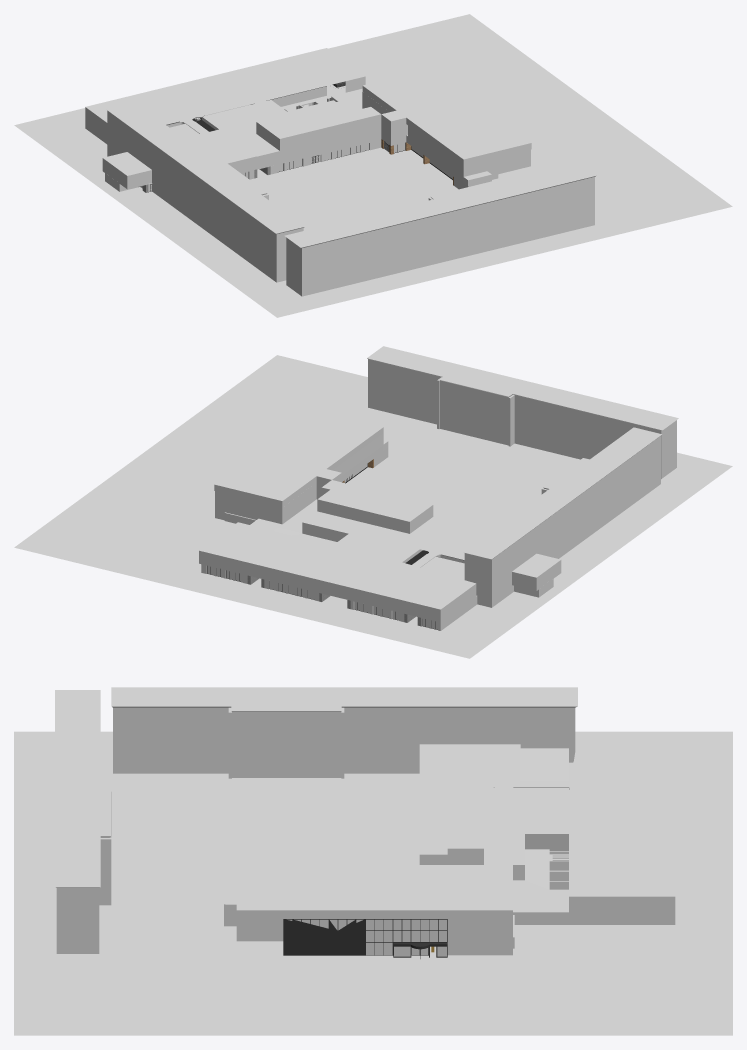
File: siba2_2.fbx
3 renders of one model, top to bottom at view 1: azimuth 30°, elevation 25°; view 2: azimuth 150°, elevation 25°; view 3: azimuth 270°, elevation 25°, orthographic. The views are drawn at different scales.
Visible parts, largest first — view 1: Plane, Cube.146, Cube.145, Cube.026, Cube.066, Cube.154, Cube.221, Cube.197, Cube.033, Cube.005, Cube.007; view 2: Plane, Cube.146, Cube.145, Cube.026, Cube.154, Cube.066, Cube.197, Cube.221, Cube.007, Cube.033, Cube.222, Cube.261 (+1 smaller); view 3: Plane, Cube.145, Cube.026, Cube.146, Cube.154, Cube.066, Cube.197, Cube.221, Cube.007, Cube.116, Cube.222, Cube.059 (+7 smaller).
Part boxes in pixels (<box>): Plane: <box>14,14,732,317</box>; Cube.146: <box>284,163,596,296</box>; Cube.145: <box>106,102,304,282</box>; Cube.026: <box>362,69,531,165</box>; Cube.066: <box>202,99,372,169</box>; Cube.154: <box>177,48,365,116</box>; Cube.221: <box>102,129,256,189</box>; Cube.197: <box>85,84,215,135</box>; Cube.033: <box>407,125,530,185</box>; Cube.005: <box>362,107,406,145</box>; Cube.007: <box>331,88,407,140</box>; Plane: <box>14,355,732,658</box>; Cube.146: <box>367,346,678,478</box>; Cube.145: <box>463,427,661,607</box>; Cube.026: <box>214,410,383,507</box>; Cube.154: <box>199,522,387,599</box>; Cube.066: <box>302,482,455,562</box>; Cube.197: <box>348,559,476,622</box>; Cube.221: <box>420,522,561,590</box>; Cube.007: <box>215,483,336,545</box>; Cube.033: <box>333,434,388,480</box>; Cube.222: <box>412,554,464,579</box>; Cube.261: <box>439,578,553,630</box>; Plane: <box>14,731,732,1035</box>; Cube.145: <box>111,687,577,778</box>; Cube.026: <box>236,865,512,918</box>; Cube.146: <box>55,690,111,953</box>; Cube.154: <box>569,797,675,914</box>; Cube.066: <box>419,787,568,880</box>; Cube.197: <box>569,735,675,796</box>; Cube.221: <box>419,744,520,787</box>; Cube.007: <box>447,849,568,943</box>; Cube.116: <box>283,919,365,955</box>; Cube.222: <box>520,748,573,787</box>; Cube.059: <box>514,914,675,924</box>.
Size of the model in its own units: 14743 by 1633 by 14743.
